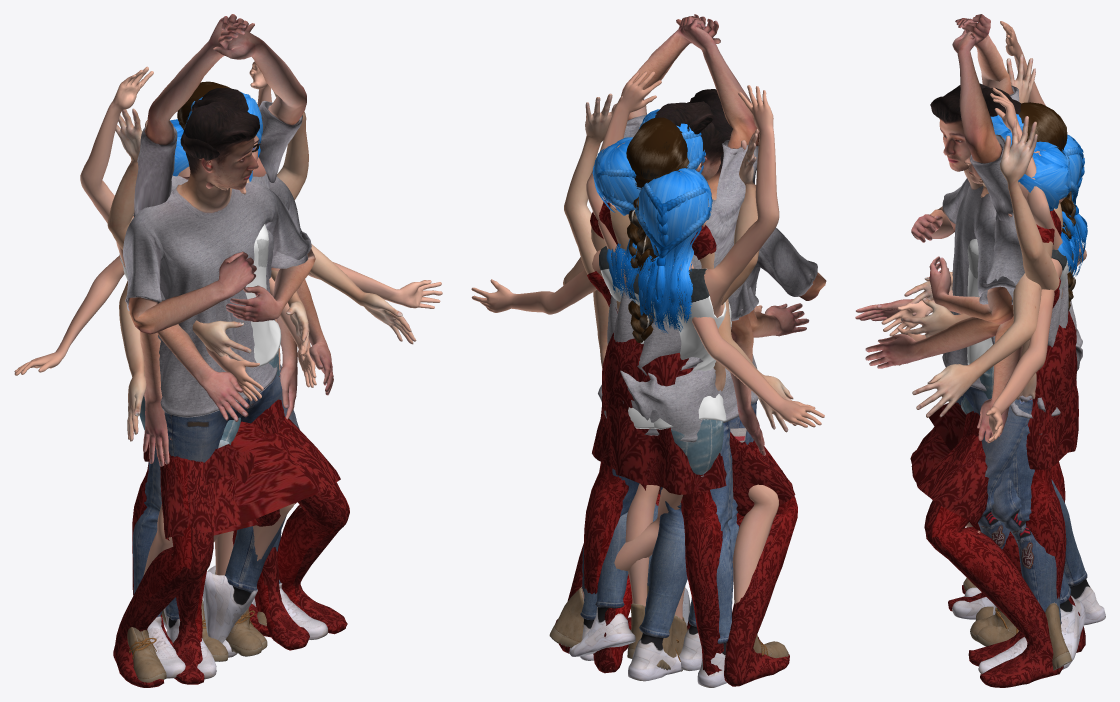
Rendered from festival-people-hero.glb.
The picture shows the model from 3 angles, left to right: view 1: azimuth 30°, elevation 25°; view 2: azimuth 150°, elevation 25°; view 3: azimuth 270°, elevation 25°; orthographic projection. The views are drawn at different scales.
Parts seen in each view (by area): view 1: manuel-groove, red-hands-up, manuel-hands-up, red-groove, manuel-work, kandace-hands-up, kandace-groove, manuel-stand, red-work, kandace-work; view 2: kandace-hands-up, red-work, manuel-hands-up, red-hands-up, kandace-groove, manuel-groove, manuel-work, kandace-work, manuel-stand, red-groove, red-stand; view 3: red-hands-up, manuel-groove, manuel-hands-up, red-work, manuel-work, kandace-groove, red-groove, kandace-hands-up, manuel-stand, kandace-work, red-stand.
Part boxes in pixels (x1,y1,x2,y2): manuel-groove: [123, 101, 315, 679]; red-hands-up: [107, 91, 349, 687]; manuel-hands-up: [134, 14, 306, 657]; red-groove: [119, 169, 416, 684]; manuel-work: [132, 145, 333, 678]; kandace-hands-up: [80, 61, 271, 682]; kandace-groove: [14, 146, 442, 656]; manuel-stand: [133, 112, 326, 678]; red-work: [132, 81, 309, 650]; kandace-work: [185, 92, 316, 661]; kandace-hands-up: [549, 71, 788, 658]; red-work: [584, 117, 726, 675]; manuel-hands-up: [598, 14, 759, 681]; red-hands-up: [555, 93, 797, 686]; kandace-groove: [471, 137, 824, 671]; manuel-groove: [568, 89, 826, 670]; manuel-work: [580, 123, 809, 687]; kandace-work: [625, 109, 762, 658]; manuel-stand: [580, 122, 765, 687]; red-groove: [563, 257, 796, 673]; red-stand: [590, 200, 725, 391]; red-hands-up: [910, 54, 1075, 687]; manuel-groove: [911, 83, 1085, 669]; manuel-hands-up: [952, 14, 1105, 625]; red-work: [900, 102, 1078, 666]; manuel-work: [855, 223, 1076, 673]; kandace-groove: [966, 141, 1086, 641]; red-groove: [912, 179, 1085, 652]; kandace-hands-up: [961, 21, 1087, 670]; manuel-stand: [964, 217, 1061, 673]; kandace-work: [881, 114, 1023, 646]; red-stand: [1016, 197, 1075, 403].
Size of the model in its own units: 0.7386 by 1.16 by 0.4269.
11 materials, 10 textured.
